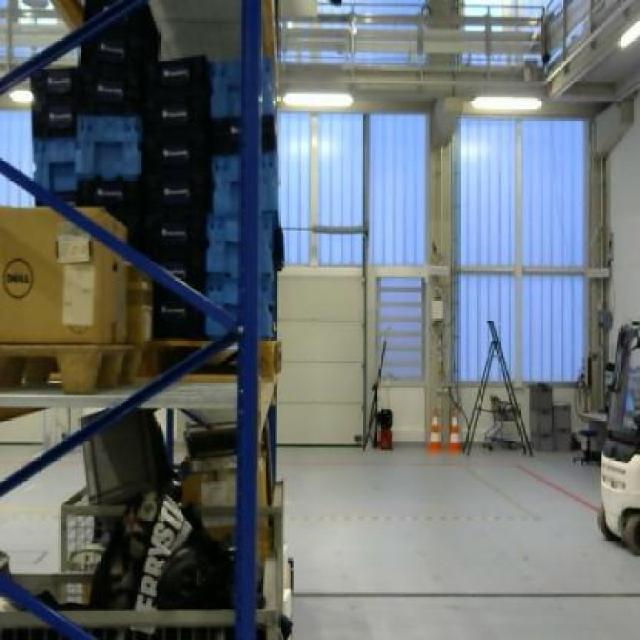box: (1, 204, 125, 341)
